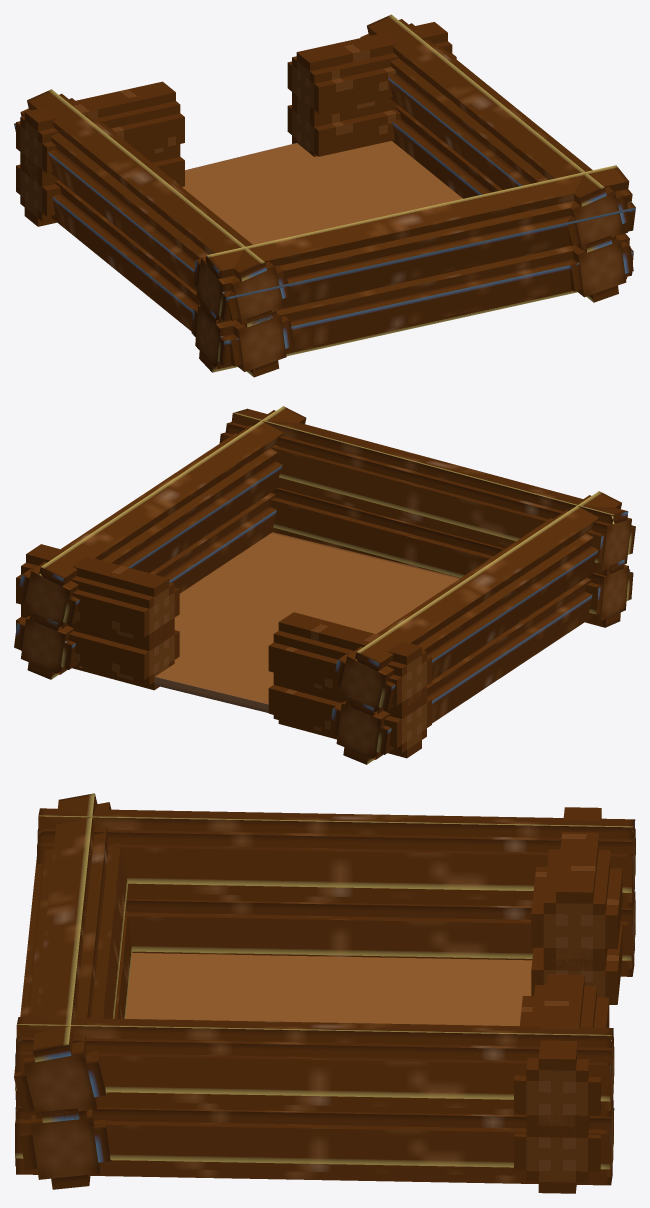
Rendered from bottom-home1.fbx.
3 views of the same model, one above another, from view 1: azimuth 30°, elevation 25°; view 2: azimuth 150°, elevation 25°; view 3: azimuth 270°, elevation 25° (orthographic). The views are drawn at different scales.
Visible parts, largest first — view 1: cube_40, cube_9, cube_8, cube_3, cube_19, cube_50, cube_1, cube_6, cube_16, cube_47, cube_13, cube_18 (+17 smaller); view 2: cube_40, cube_7, cube_19, cube_50, cube_2, cube_6, cube_9, cube_13, cube_18, cube_47, cube_16, cube_49 (+17 smaller); view 3: cube_40, cube_48, cube_17, cube_43, cube_12, cube_47, cube_16, cube_50, cube_19, cube_42, cube_9, cube_6 (+19 smaller).
Boxes of the visible parts, x1,y1,x2,y2 form: cube_40: (182, 141, 462, 244); cube_9: (205, 165, 629, 278); cube_8: (219, 202, 635, 320); cube_3: (217, 248, 633, 365); cube_19: (27, 89, 266, 281); cube_50: (367, 14, 606, 206); cube_1: (195, 233, 629, 369); cube_6: (196, 189, 632, 322); cube_16: (20, 93, 284, 325); cube_47: (360, 19, 623, 250); cube_13: (51, 193, 243, 366); cube_18: (14, 123, 240, 320); cube_40: (79, 532, 459, 712); cube_7: (219, 432, 606, 563); cube_19: (355, 491, 621, 671); cube_50: (39, 406, 306, 586); cube_2: (269, 497, 603, 614); cube_6: (225, 422, 631, 570); cube_9: (231, 408, 628, 524); cube_13: (376, 569, 629, 754); cube_18: (379, 525, 632, 710); cube_47: (23, 410, 278, 629); cube_16: (338, 495, 594, 714); cube_49: (63, 461, 282, 625); cube_40: (125, 953, 532, 1026); cube_48: (15, 1051, 611, 1101); cube_17: (37, 843, 632, 892); cube_43: (15, 1119, 610, 1169); cube_12: (125, 912, 632, 960); cube_47: (15, 1037, 613, 1110); cube_16: (37, 828, 635, 902); cube_50: (16, 1017, 613, 1047); cube_19: (38, 808, 635, 839); cube_42: (15, 1100, 613, 1177); cube_9: (32, 793, 97, 1062); cube_6: (23, 802, 111, 1119).
Size of the model in its own units: 314 by 81.13 by 315.
3 materials, 3 textured.
